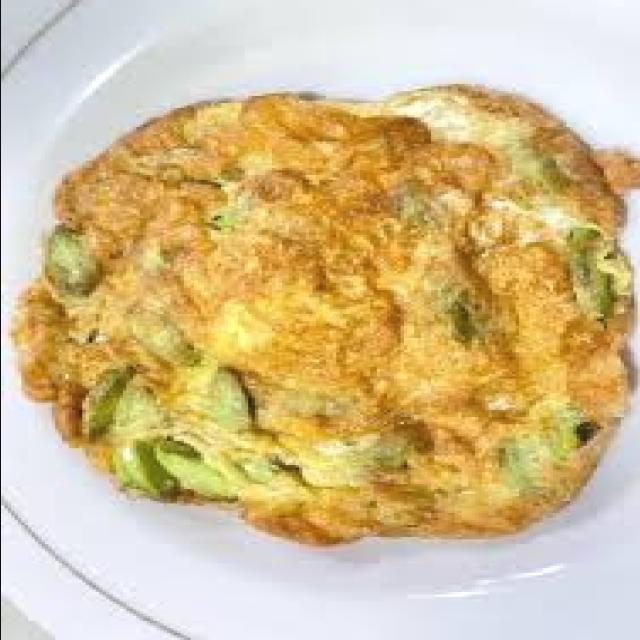telur dadar: (10, 81, 640, 551)
